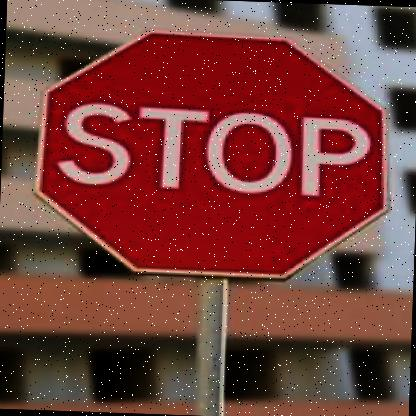stop: (28, 23, 398, 284)
